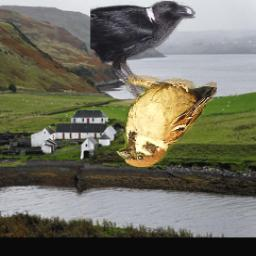Crow: (91, 1, 197, 98)
Sparrow: (115, 75, 218, 168)
